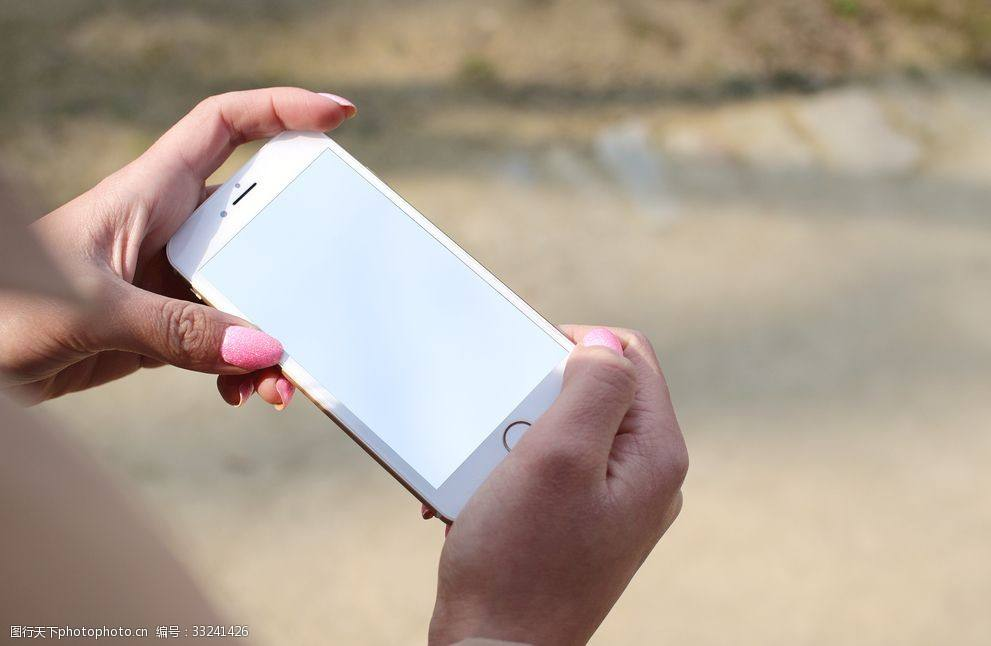phone: (75, 75, 695, 632)
